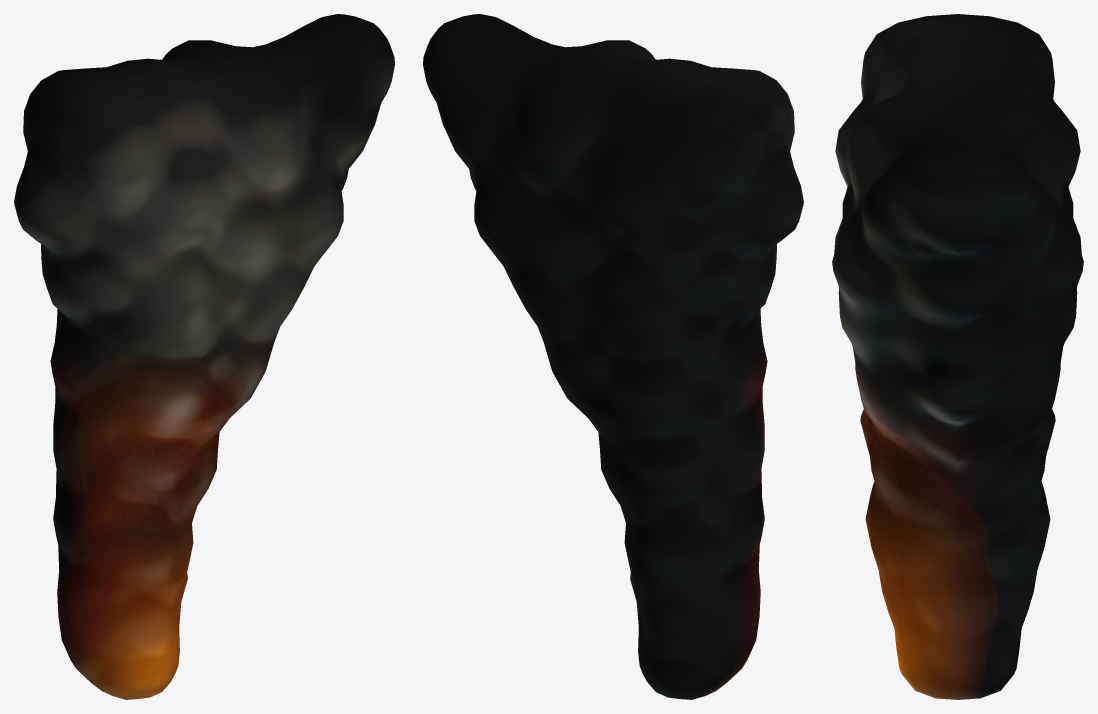
File: Ash_Low2.fbx
The picture shows the model from 3 angles, left to right: view 1: azimuth 30°, elevation 25°; view 2: azimuth 150°, elevation 25°; view 3: azimuth 270°, elevation 25°; orthographic projection. The views are drawn at different scales.
Visible parts, largest first — view 1: PolySphere1; view 2: PolySphere1; view 3: PolySphere1.
Part boxes in pixels (x1=…): PolySphere1: x1=14, y1=14, x2=394, y2=699; PolySphere1: x1=423, y1=14, x2=803, y2=699; PolySphere1: x1=832, y1=14, x2=1083, y2=699.
Bounding box in the file's own units: 2.06 × 3.32 × 1.15.
